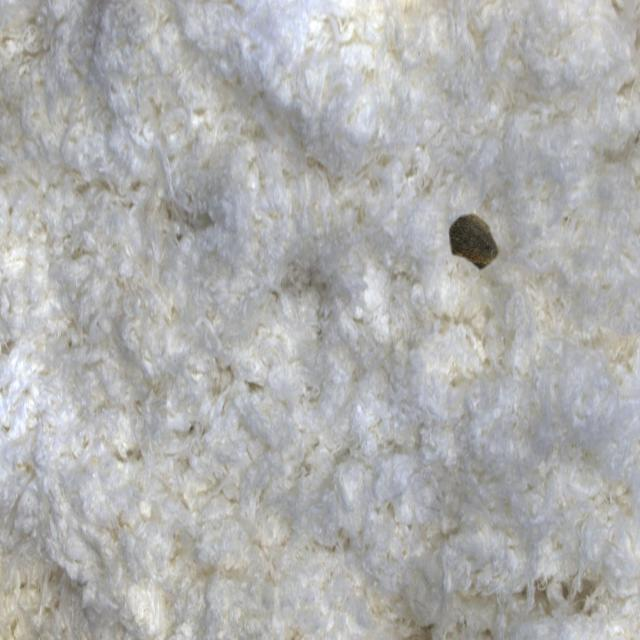dust: (435, 183, 525, 306)
